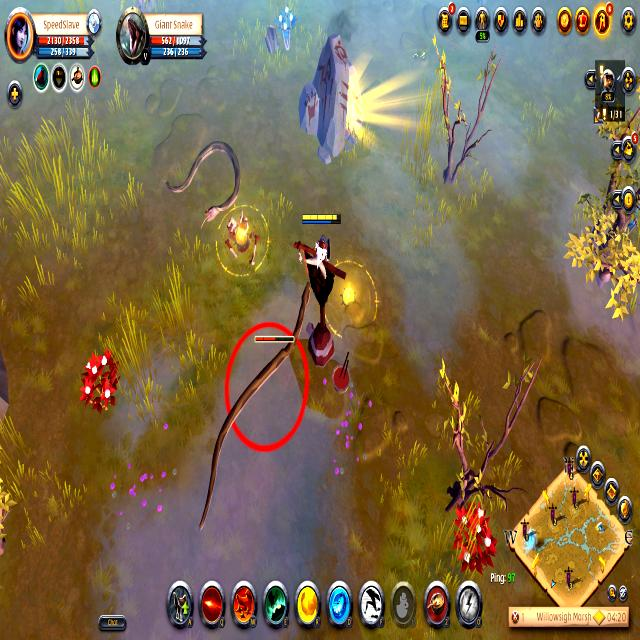hide: (450, 494, 500, 579), (76, 333, 120, 421), (269, 0, 300, 59)
ore: (192, 280, 314, 544)
red: (302, 209, 342, 291)
